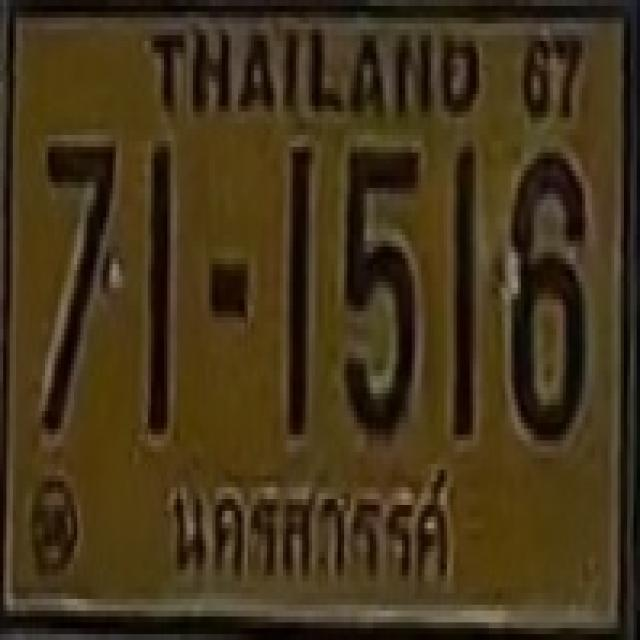1: (450, 146, 473, 428), (148, 141, 167, 429), (288, 144, 307, 426)
5: (341, 141, 415, 429)
6: (508, 147, 582, 434)
7: (42, 135, 112, 429)
NSN: (159, 456, 466, 600)
